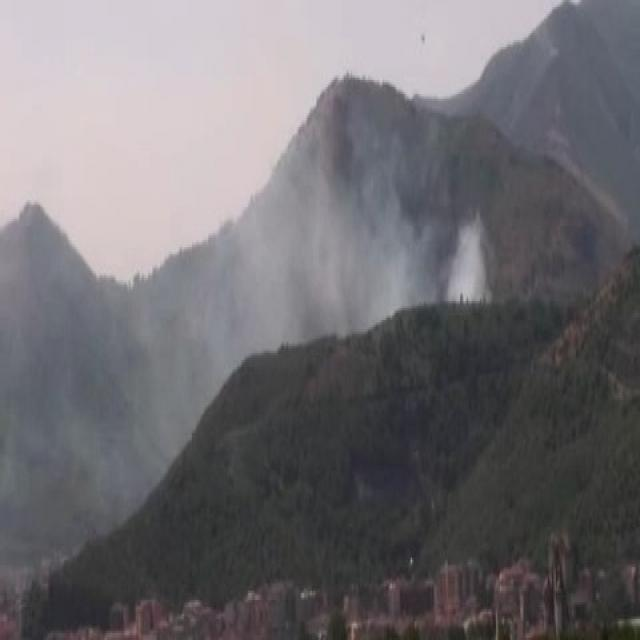smoke: (217, 168, 490, 328), (41, 310, 171, 460)
